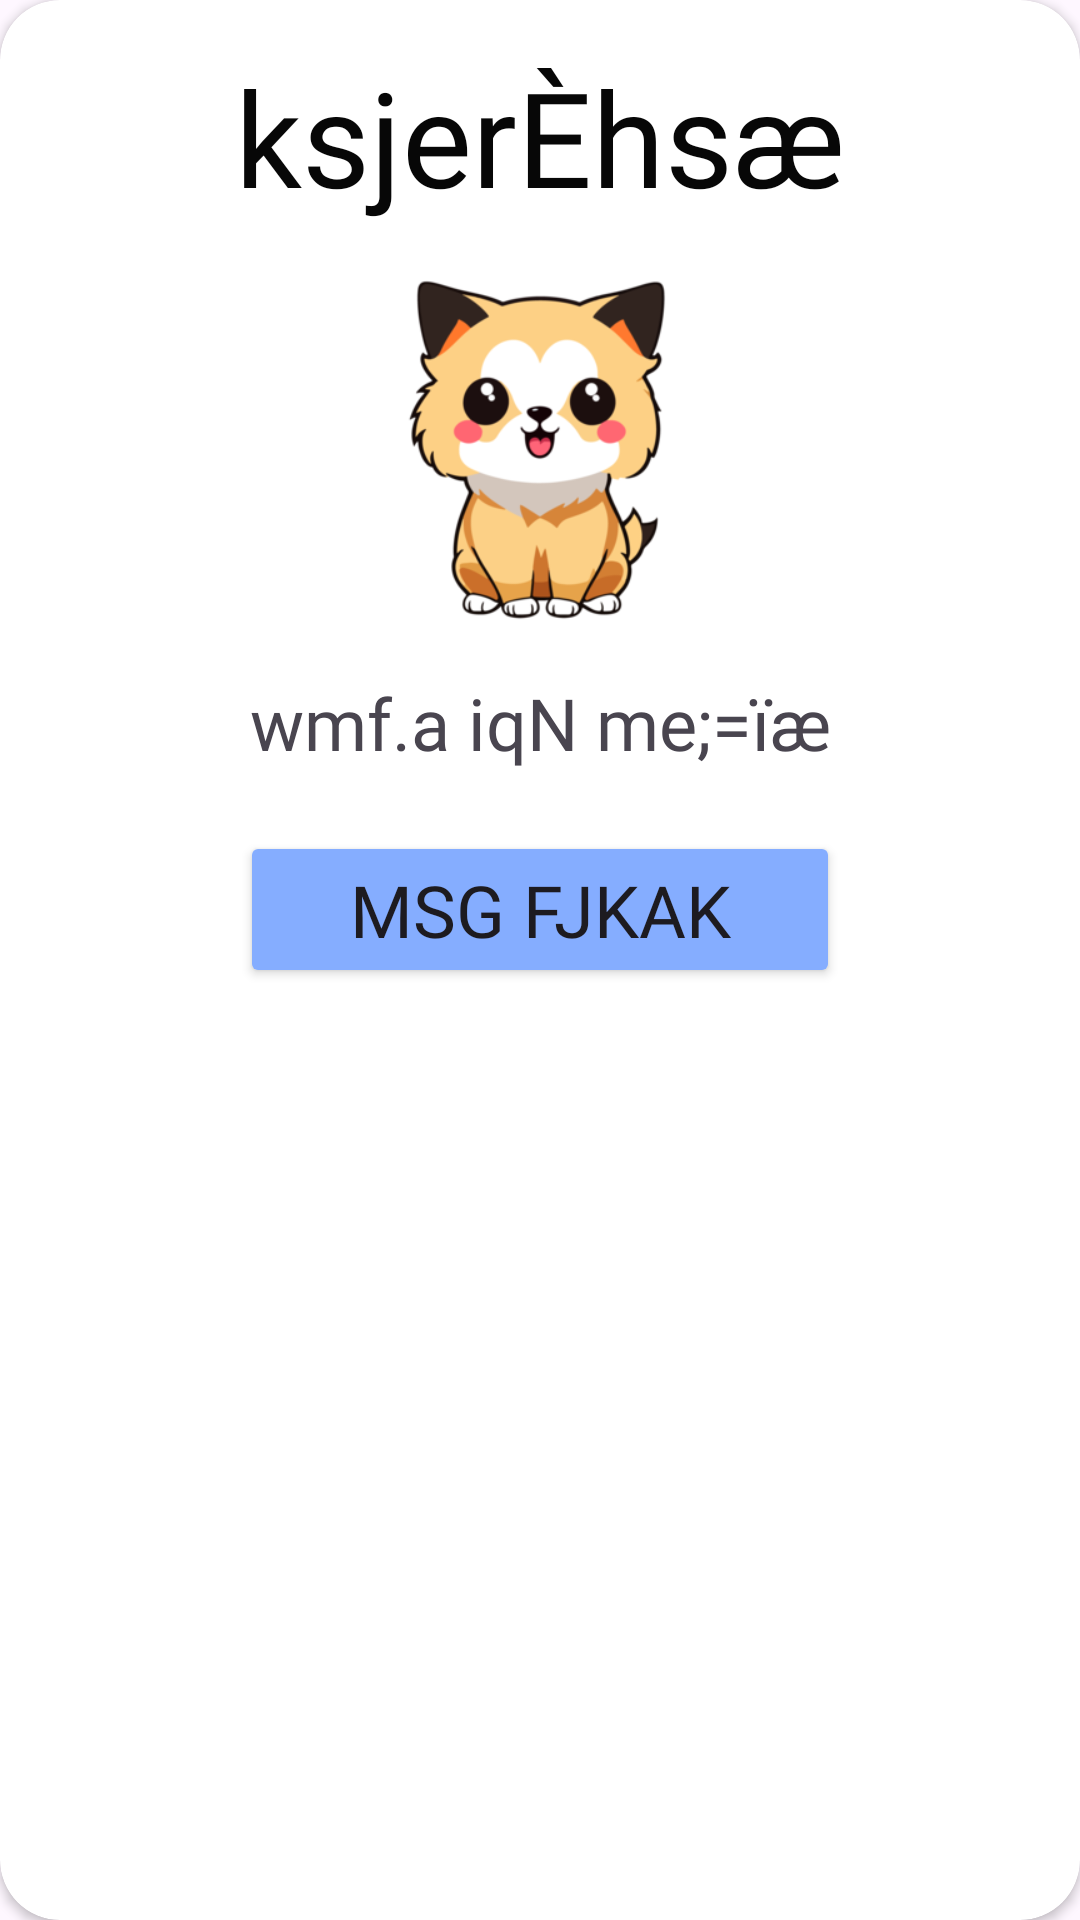

Icons on this 1080w x 1920h Android screen, each with the point to tap as (x,y):
correct animal: (537,450)
